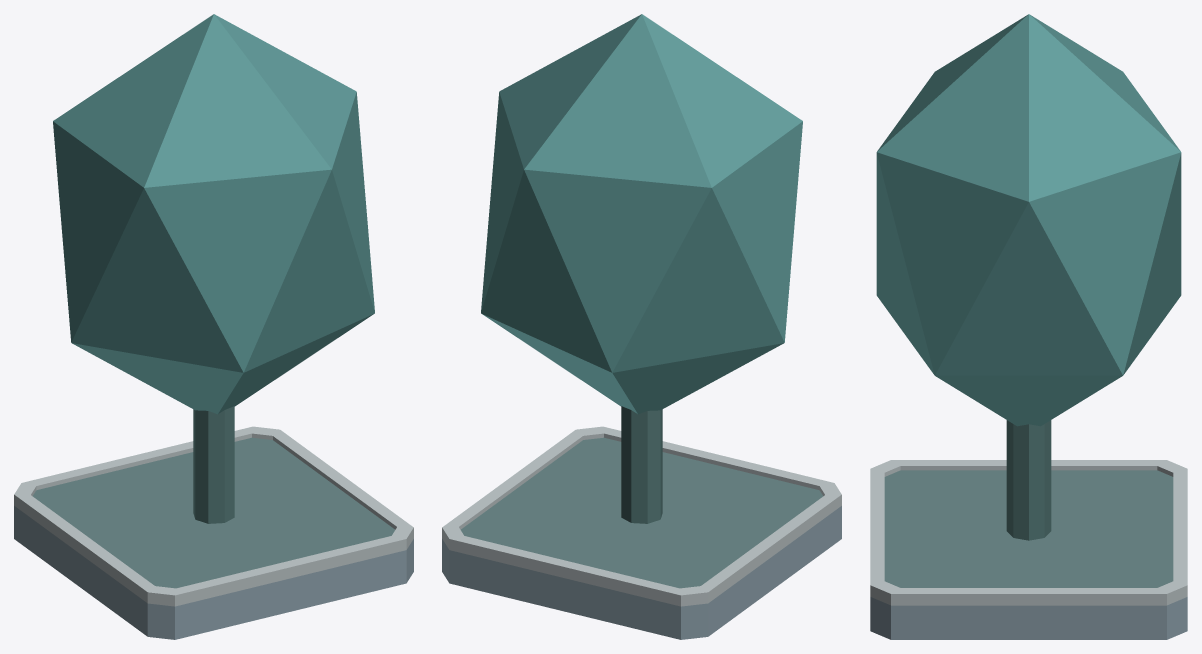
File: campus_tree_round_v01.glb
The picture shows the model from 3 angles, left to right: view 1: azimuth 30°, elevation 25°; view 2: azimuth 150°, elevation 25°; view 3: azimuth 270°, elevation 25°; orthographic projection. The views are drawn at different scales.
Parts seen in each view (by area): view 1: campus_tree_round; view 2: campus_tree_round; view 3: campus_tree_round.
Boxes of the visible parts, x1,y1,x2,y2 form: campus_tree_round: (14,14,413,639); campus_tree_round: (442,14,841,639); campus_tree_round: (870,14,1187,639).
Bounding box in the file's own units: 2.15 × 3.89 × 2.
